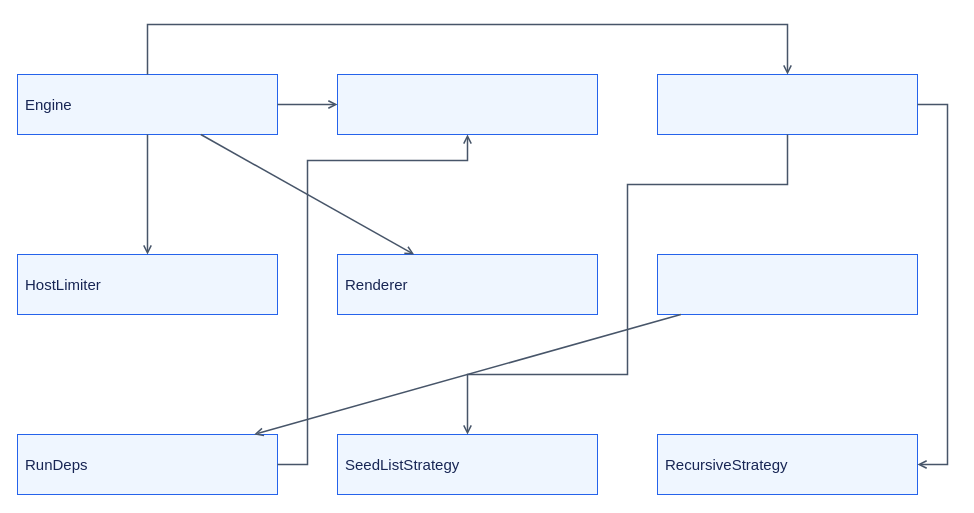
The diagram is 974 pixels wide and 513 high, and some of its shapes have lost their labels. Each missing label, with the centre of its shape:
"CrawlRun" goes at [787,284].
"Registry" goes at [787,104].
"StateStore" goes at [467,104].
